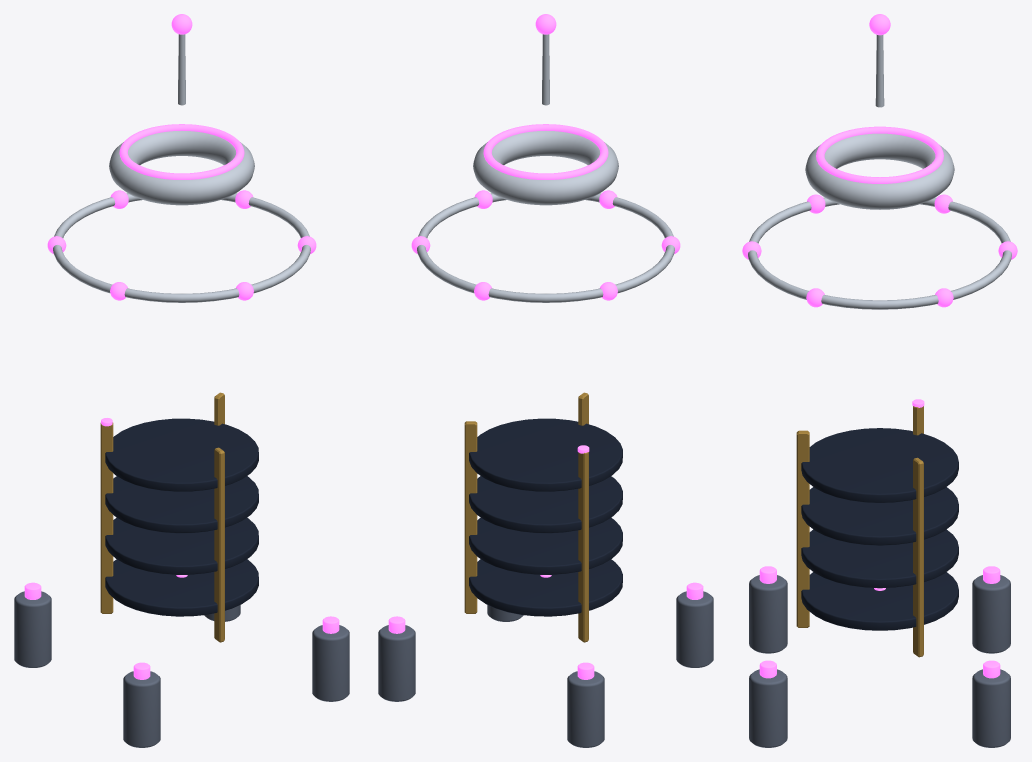
File: tower_arc_damage_s7.glb
3 renders of one model, left to right at view 1: azimuth 30°, elevation 25°; view 2: azimuth 150°, elevation 25°; view 3: azimuth 270°, elevation 25°, orthographic. The views are drawn at different scales.
Visible parts, largest first — view 1: arc_insulator_sleeve3, arc_toroid_b, arc_insulator_sleeve2, arc_insulator_sleeve1, arc_insulator_sleeve0, arc_electrode_ring, arc_shock_cap2, arc_shock_cap3, arc_shock_cap0, arc_toroid_b_glow, arc_ground_strap0, arc_ground_strap2 (+1 smaller); view 2: arc_insulator_sleeve3, arc_toroid_b, arc_insulator_sleeve2, arc_insulator_sleeve1, arc_insulator_sleeve0, arc_electrode_ring, arc_shock_cap1, arc_shock_cap0, arc_shock_cap3, arc_ground_strap1, arc_toroid_b_glow, arc_ground_strap0 (+1 smaller); view 3: arc_insulator_sleeve3, arc_toroid_b, arc_insulator_sleeve2, arc_insulator_sleeve1, arc_insulator_sleeve0, arc_electrode_ring, arc_shock_cap0, arc_shock_cap3, arc_shock_cap1, arc_shock_cap2, arc_ground_strap2, arc_toroid_b_glow (+2 smaller).
Part boxes in pixels (x1=…): arc_insulator_sleeve3: x1=105, y1=418, x2=258, y2=491; arc_toroid_b: x1=109, y1=131, x2=254, y2=205; arc_insulator_sleeve2: x1=105, y1=476, x2=258, y2=533; arc_insulator_sleeve1: x1=105, y1=517, x2=258, y2=574; arc_insulator_sleeve0: x1=105, y1=559, x2=258, y2=616; arc_electrode_ring: x1=53, y1=193, x2=310, y2=302; arc_shock_cap2: x1=312, y1=625, x2=349, y2=701; arc_shock_cap3: x1=123, y1=671, x2=160, y2=747; arc_shock_cap0: x1=14, y1=591, x2=51, y2=667; arc_toroid_b_glow: x1=119, y1=124, x2=244, y2=179; arc_ground_strap0: x1=100, y1=422, x2=113, y2=613; arc_ground_strap2: x1=214, y1=447, x2=224, y2=642; arc_insulator_sleeve3: x1=469, y1=418, x2=622, y2=491; arc_toroid_b: x1=473, y1=131, x2=618, y2=205; arc_insulator_sleeve2: x1=469, y1=476, x2=622, y2=533; arc_insulator_sleeve1: x1=469, y1=517, x2=622, y2=574; arc_insulator_sleeve0: x1=469, y1=559, x2=622, y2=616; arc_electrode_ring: x1=417, y1=193, x2=674, y2=302; arc_shock_cap1: x1=378, y1=625, x2=415, y2=701; arc_shock_cap0: x1=567, y1=671, x2=604, y2=747; arc_shock_cap3: x1=676, y1=591, x2=713, y2=667; arc_ground_strap1: x1=464, y1=421, x2=477, y2=613; arc_toroid_b_glow: x1=483, y1=124, x2=608, y2=179; arc_ground_strap0: x1=578, y1=452, x2=588, y2=642; arc_insulator_sleeve3: x1=801, y1=428, x2=958, y2=503; arc_toroid_b: x1=805, y1=133, x2=954, y2=209; arc_insulator_sleeve2: x1=801, y1=487, x2=958, y2=545; arc_insulator_sleeve1: x1=801, y1=529, x2=958, y2=588; arc_insulator_sleeve0: x1=801, y1=572, x2=958, y2=630; arc_electrode_ring: x1=748, y1=197, x2=1011, y2=309; arc_shock_cap0: x1=972, y1=575, x2=1010, y2=653; arc_shock_cap3: x1=749, y1=575, x2=787, y2=653; arc_shock_cap1: x1=972, y1=669, x2=1010, y2=747; arc_shock_cap2: x1=749, y1=669, x2=787, y2=747; arc_ground_strap2: x1=796, y1=430, x2=809, y2=627; arc_toroid_b_glow: x1=816, y1=126, x2=943, y2=183.
Bounding box in the file's own units: 1.24 × 3.51 × 1.29.
